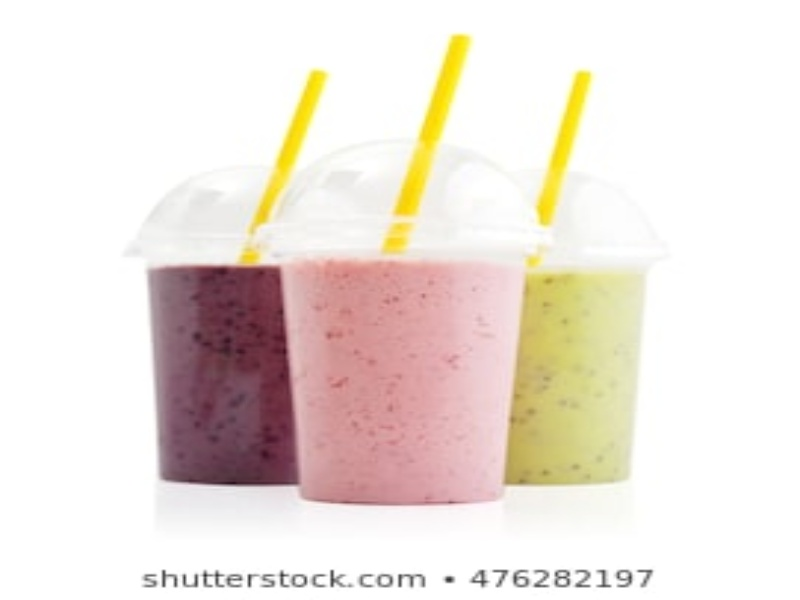plastic-cup: (248, 133, 537, 507), (122, 167, 310, 492), (500, 155, 662, 489)
straw: (380, 26, 477, 256), (235, 67, 329, 266), (523, 67, 596, 272)
